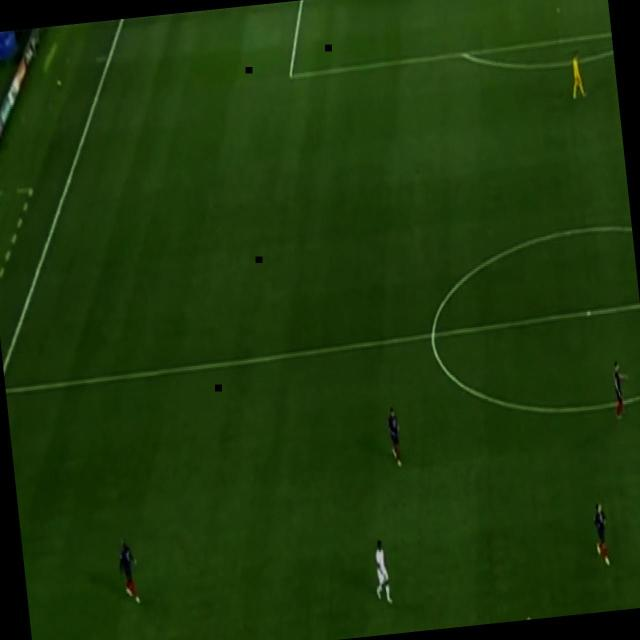player-white: (112, 531, 143, 609), (369, 536, 397, 612), (588, 498, 615, 570), (609, 356, 635, 426), (382, 400, 406, 472), (566, 47, 588, 103), (510, 610, 536, 622)
